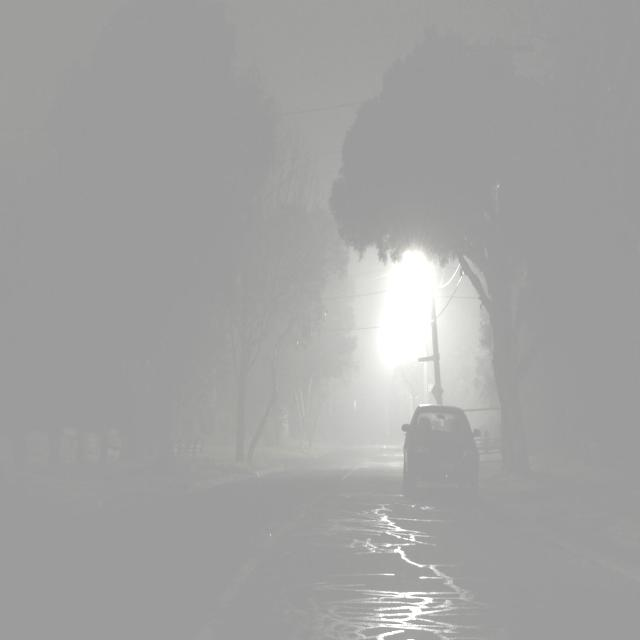Car: (398, 391, 483, 508)
